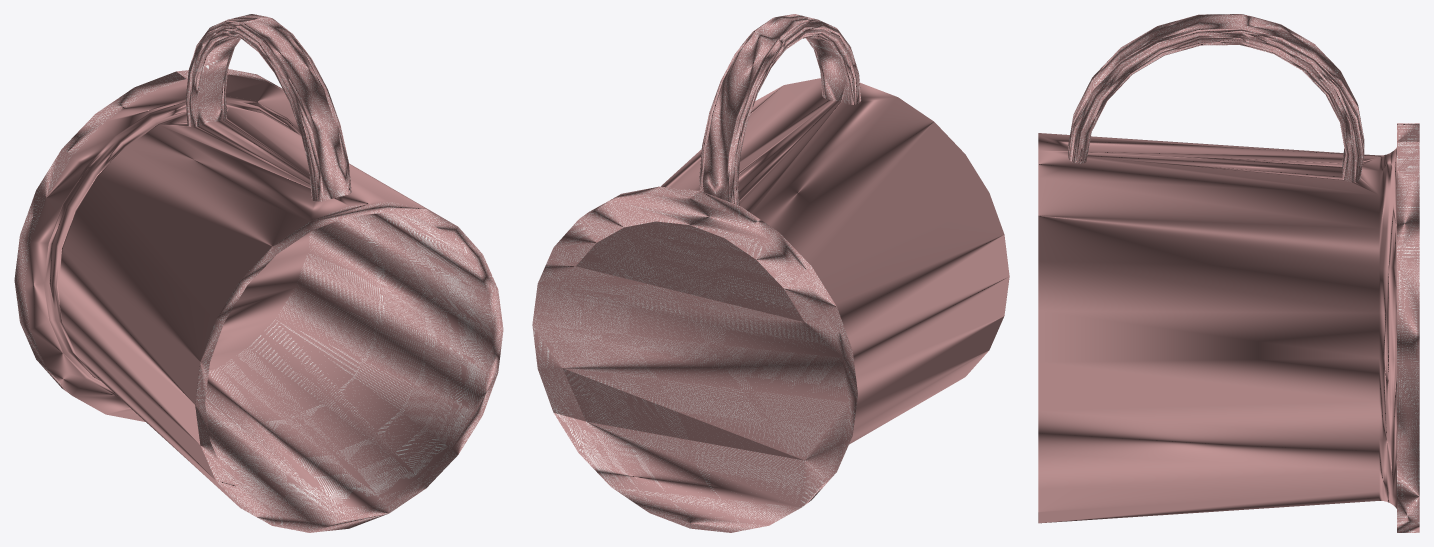
File: model_align.obj
The picture shows the model from 3 angles, left to right: view 1: azimuth 30°, elevation 25°; view 2: azimuth 150°, elevation 25°; view 3: azimuth 270°, elevation 25°; orthographic projection. The views are drawn at different scales.
Size of the model in its own units: 0.0898 by 0.1189 by 0.0833.
